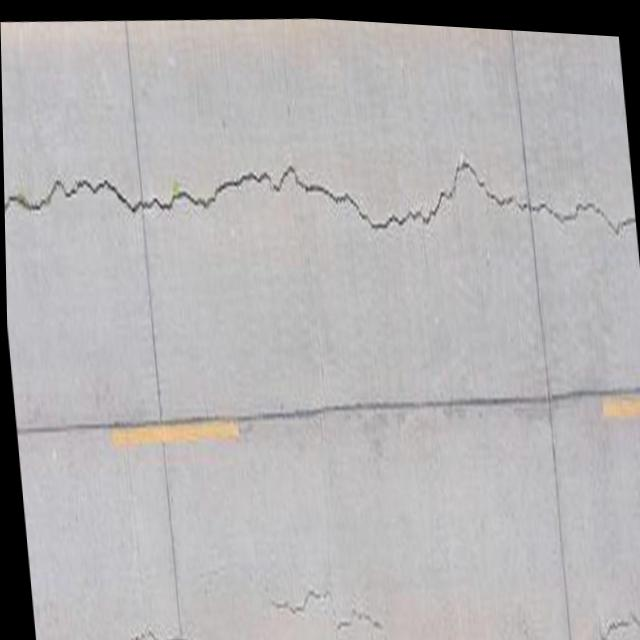Crack: (1, 68, 640, 314)
